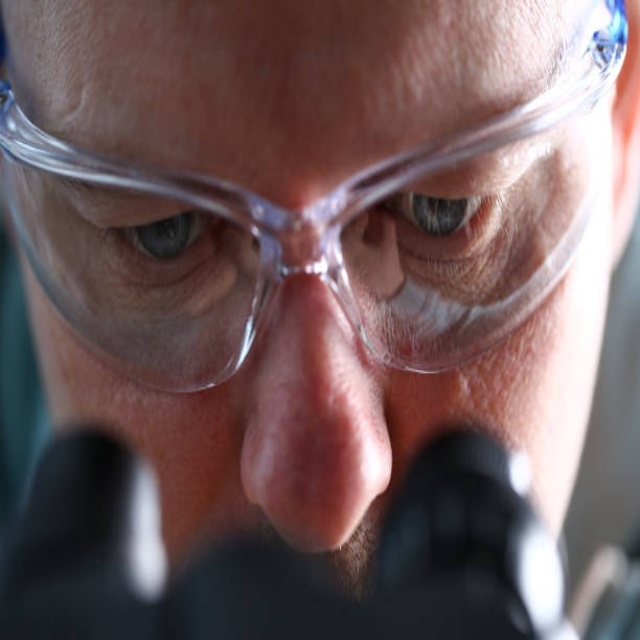Gafas: (3, 3, 630, 393)
